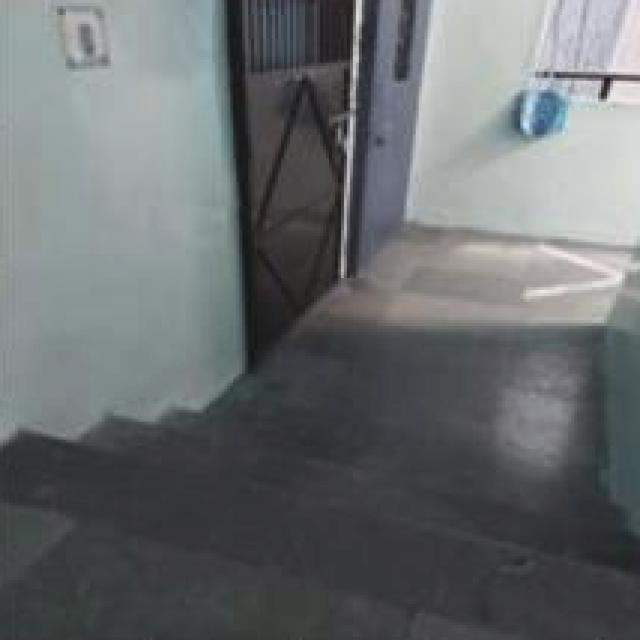downstair: (127, 369, 438, 551)
